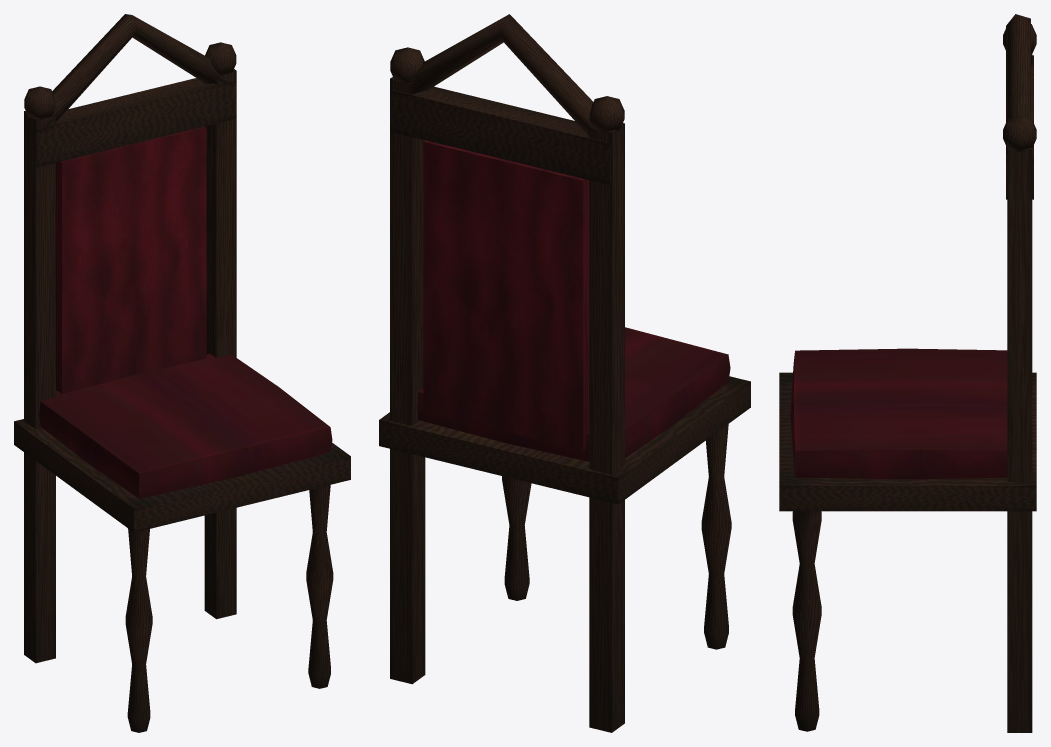
Rendered from dining_chair.glb.
3 renders of one model, left to right at view 1: azimuth 30°, elevation 25°; view 2: azimuth 150°, elevation 25°; view 3: azimuth 270°, elevation 25°, orthographic. The views are drawn at different scales.
Visible parts, largest first — view 1: dining_chair; view 2: dining_chair; view 3: dining_chair.
Part boxes in pixels (left/top/right/bottom): dining_chair: left=14, top=14, right=350, bottom=732; dining_chair: left=379, top=14, right=750, bottom=732; dining_chair: left=779, top=14, right=1036, bottom=732.
Size of the model in its own units: 0.48 by 1.31 by 0.4603.
Materials: 2 (2 with a texture image).
